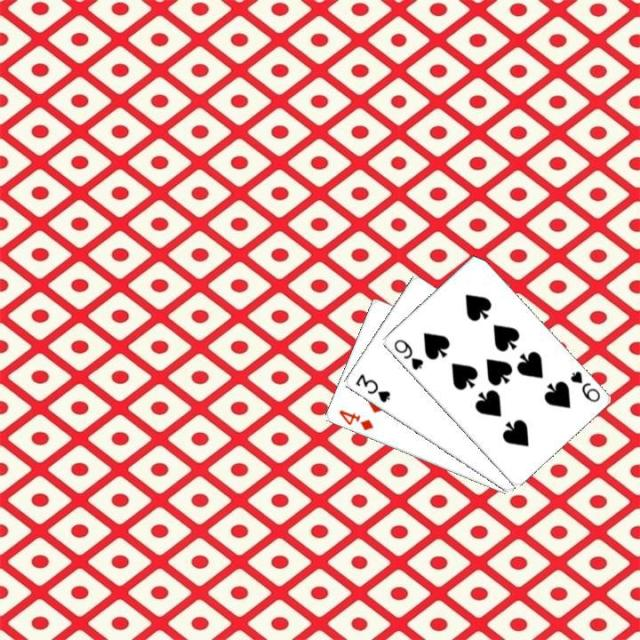3S: (351, 370, 392, 404)
4D: (334, 406, 375, 433)
9S: (565, 367, 602, 404), (389, 335, 425, 373)
